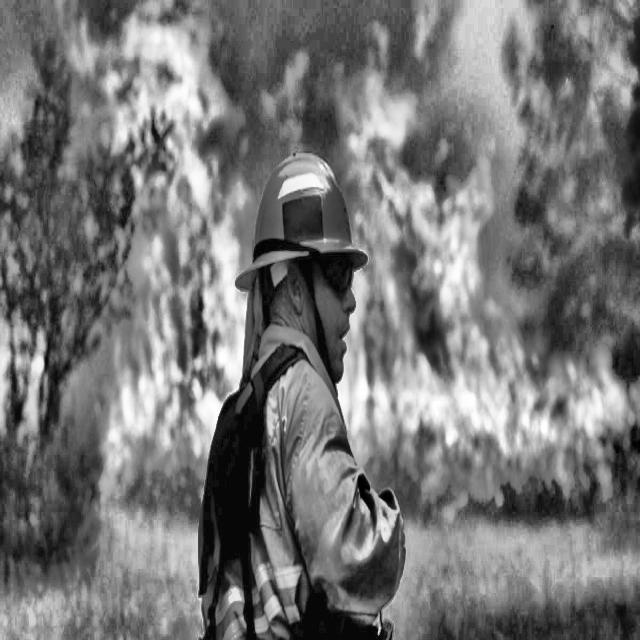fire: (30, 15, 638, 542)
